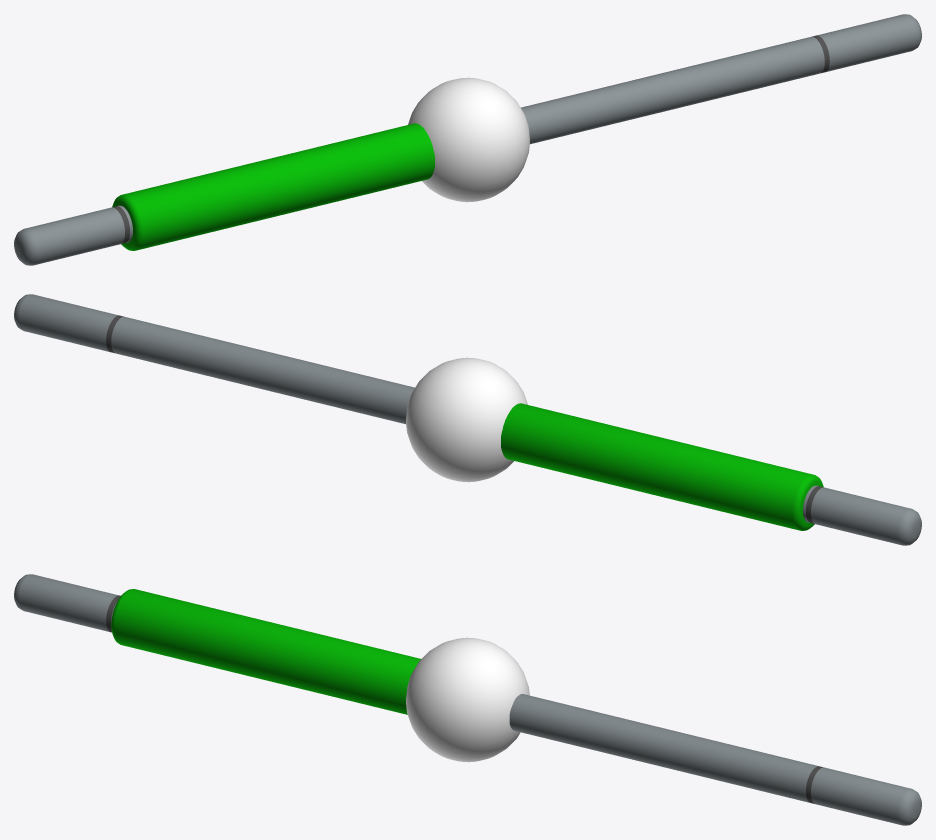
The model's file is slider.glb.
The picture shows the model from 3 angles, top to bottom: view 1: azimuth 30°, elevation 25°; view 2: azimuth 150°, elevation 25°; view 3: azimuth 330°, elevation 25°; orthographic projection.
Visible parts, largest first — view 1: bar, amount, knob; view 2: bar, amount, knob; view 3: bar, amount, knob.
Part boxes in pixels (x1,y1,x2,y2): bar: (14,14,921,265); amount: (112,123,434,250); knob: (408,77,529,202); bar: (14,294,921,545); amount: (501,403,823,530); knob: (406,357,527,482); bar: (14,574,921,825); amount: (111,589,420,714); knob: (406,637,529,762).
Size of what is drawn, in the model's own units: 1.15 by 0.1378 by 0.1378.
